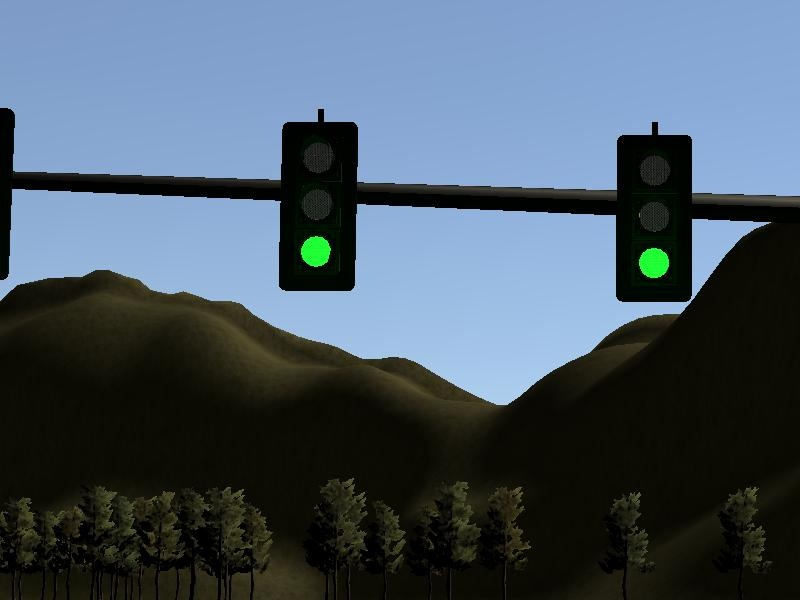GREEN: (279, 122, 356, 289), (617, 135, 693, 302)
